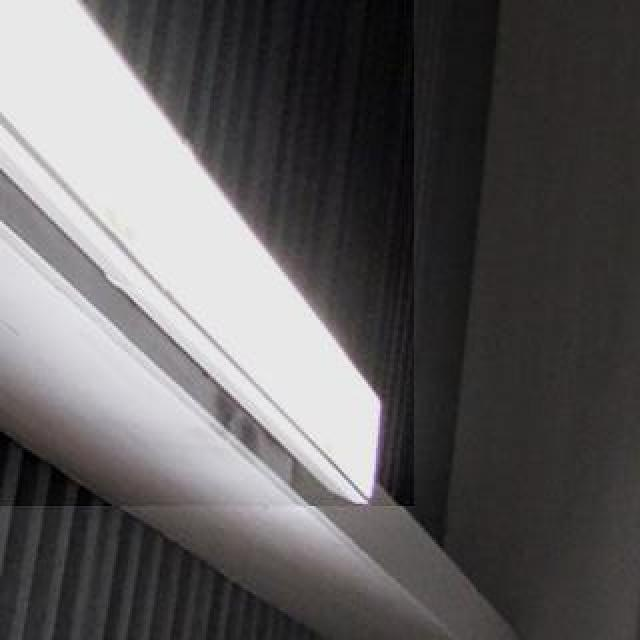fluorescent tube: (0, 0, 408, 508)
